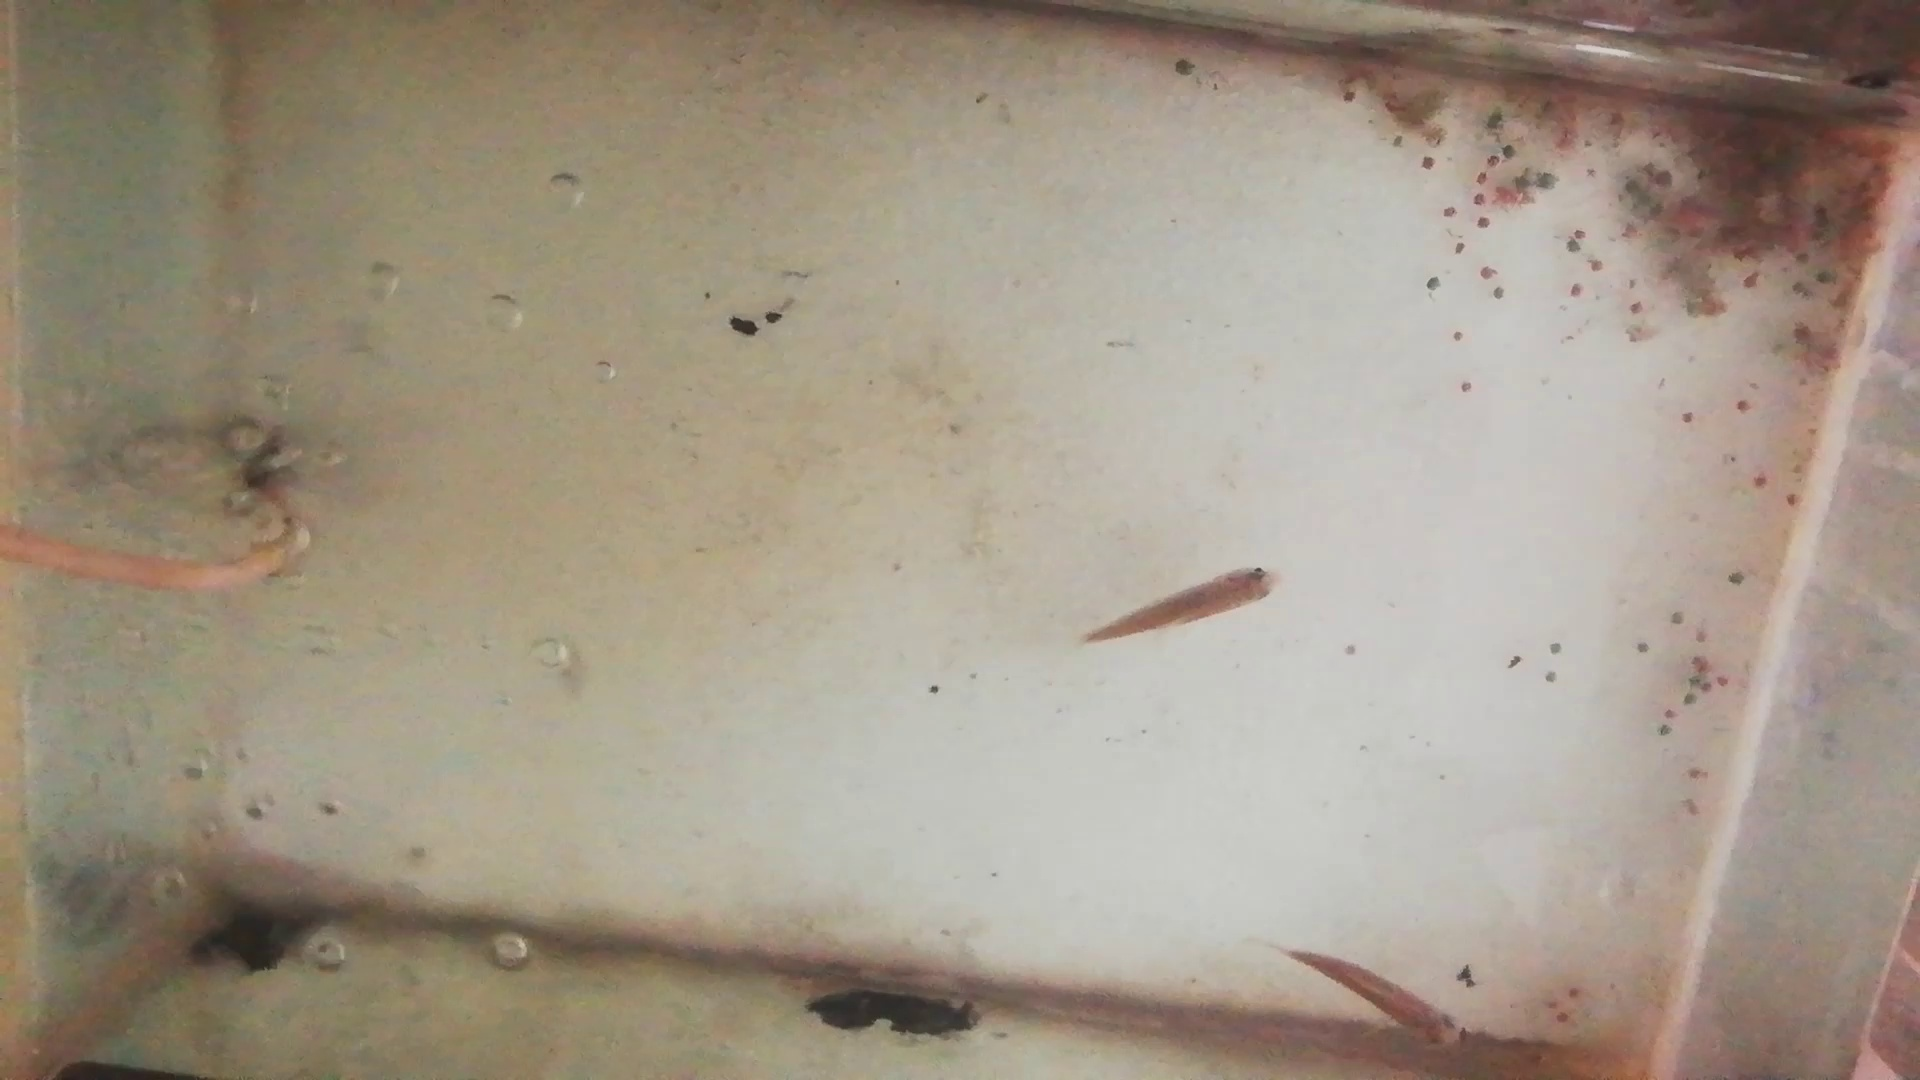fish: (1292, 947, 1462, 1054), (1088, 567, 1291, 641)
